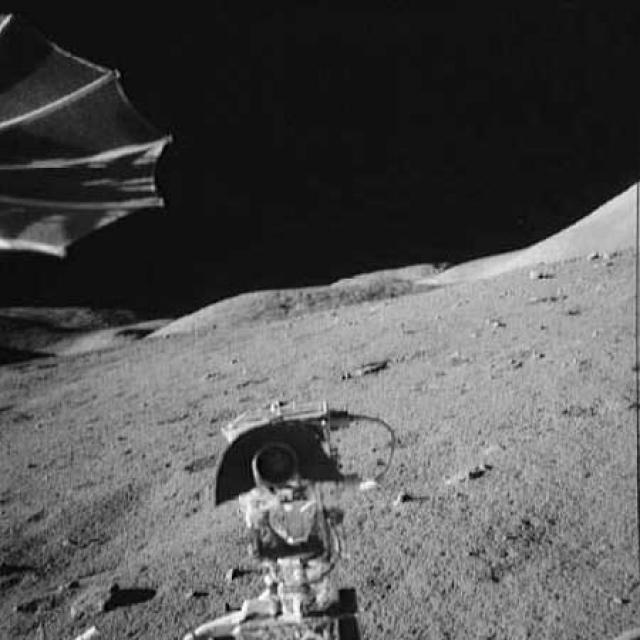artifact: (186, 381, 420, 639), (0, 15, 188, 274)
rock: (54, 581, 126, 621), (441, 459, 497, 490), (529, 262, 549, 284)
